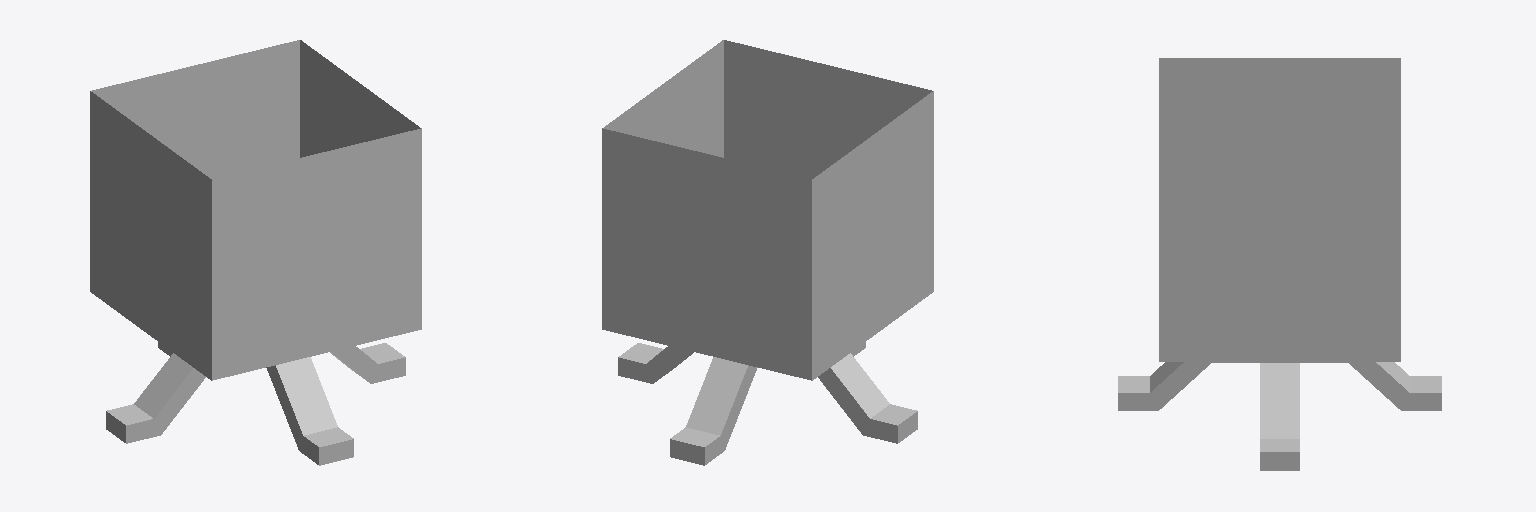
File: brazier.obj
3 renders of one model, left to right at view 1: azimuth 30°, elevation 25°; view 2: azimuth 150°, elevation 25°; view 3: azimuth 270°, elevation 25°, orthographic.
Visible parts, largest first — view 1: side_south, side_west, side_north, side_east, leg_south, leg_east, leg_ext_west, leg_ext_south, leg_ext_east, leg_west; view 2: side_north, side_west, side_south, side_east, leg_north, leg_east, leg_ext_west, leg_ext_north, leg_ext_east, leg_west; view 3: side_east, side_west, leg_west, leg_south, leg_north, leg_ext_east, leg_ext_north, leg_ext_south.
Part boxes in pixels (left/top/right/bottom): side_south: left=212, top=128, right=421, bottom=380; side_west: left=90, top=91, right=211, bottom=380; side_north: left=91, top=40, right=299, bottom=178; side_east: left=300, top=40, right=420, bottom=157; leg_south: left=266, top=357, right=337, bottom=450; leg_east: left=134, top=353, right=205, bottom=434; leg_ext_west: left=106, top=404, right=160, bottom=443; leg_ext_south: left=299, top=427, right=353, bottom=465; leg_ext_east: left=360, top=343, right=405, bottom=383; leg_west: left=330, top=346, right=382, bottom=383; side_north: left=602, top=128, right=811, bottom=380; side_west: left=812, top=91, right=933, bottom=380; side_south: left=724, top=40, right=932, bottom=178; side_east: left=603, top=40, right=723, bottom=157; leg_north: left=686, top=357, right=757, bottom=449; leg_east: left=818, top=353, right=889, bottom=434; leg_ext_west: left=863, top=404, right=917, bottom=443; leg_ext_north: left=670, top=427, right=724, bottom=465; leg_ext_east: left=618, top=343, right=663, bottom=383; leg_west: left=642, top=346, right=693, bottom=383; side_east: left=1159, top=161, right=1400, bottom=361; side_west: left=1159, top=58, right=1400, bottom=160; leg_west: left=1260, top=363, right=1299, bottom=438; leg_south: left=1145, top=362, right=1210, bottom=410; leg_north: left=1349, top=362, right=1414, bottom=409; leg_ext_east: left=1260, top=439, right=1299, bottom=470; leg_ext_north: left=1401, top=376, right=1441, bottom=410; leg_ext_south: left=1118, top=376, right=1158, bottom=410.
Size of the model in its own units: 1 by 1 by 1.